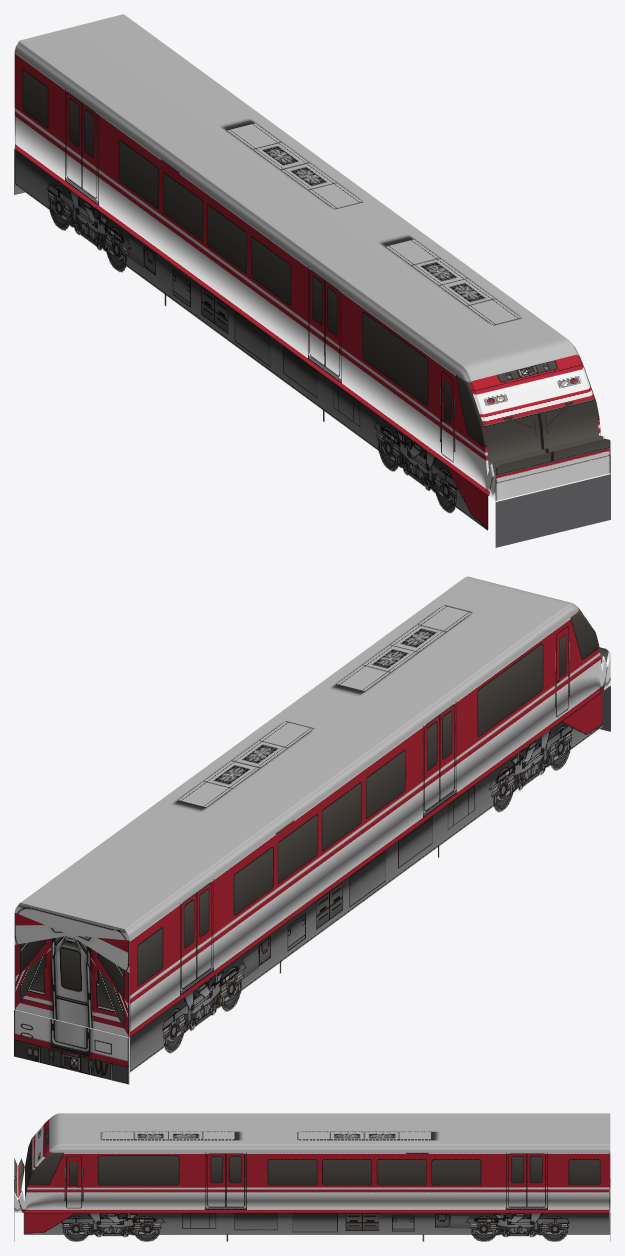
File: car1.glb
3 renders of one model, top to bottom at view 1: azimuth 30°, elevation 25°; view 2: azimuth 150°, elevation 25°; view 3: azimuth 270°, elevation 25°, orthographic. The views are drawn at different scales.
Parts seen in each view (by area): view 1: car1; view 2: car1; view 3: car1.
Boxes of the visible parts, <box> form: car1: <box>14,14,610,547</box>; car1: <box>14,576,610,1084</box>; car1: <box>14,1113,610,1241</box>.
Size of the model in its own units: 2.72 by 3.49 by 19.74.
Materials: 6 (5 with a texture image).
